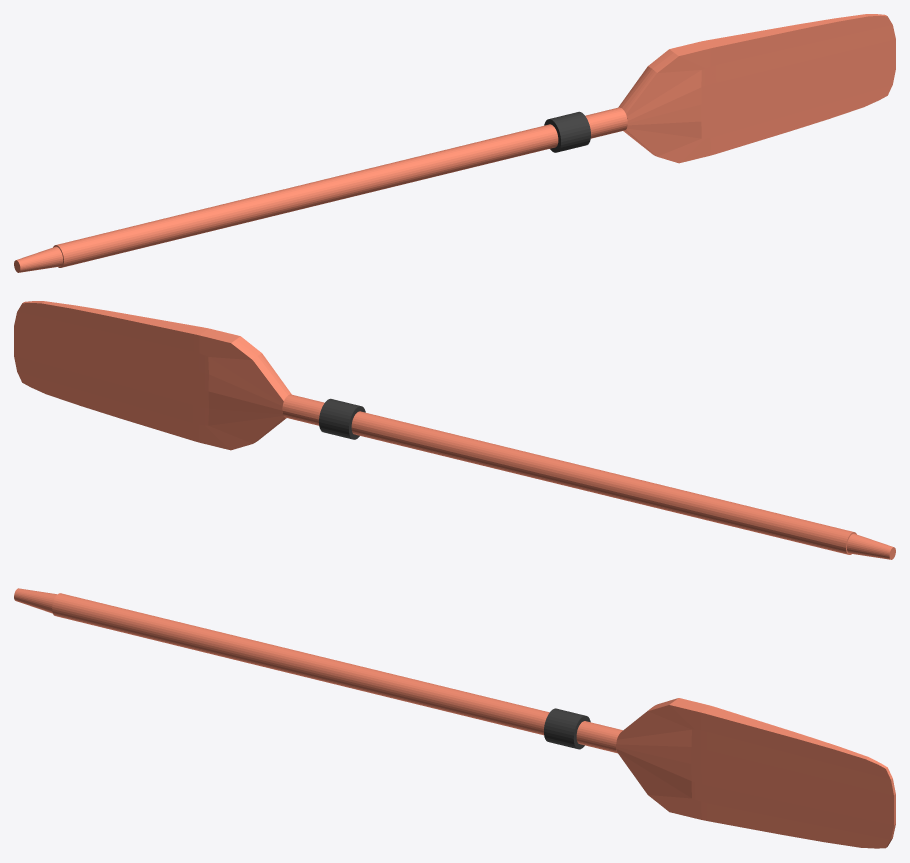
Rendered from Rowing.fbx.
3 views of the same model, one above another, from view 1: azimuth 30°, elevation 25°; view 2: azimuth 150°, elevation 25°; view 3: azimuth 330°, elevation 25° (orthographic).
Visible parts, largest first — view 1: Cylinder; view 2: Cylinder; view 3: Cylinder.
Part boxes in pixels (bbox=[...]): Cylinder: bbox=[14, 14, 895, 272]; Cylinder: bbox=[14, 301, 895, 559]; Cylinder: bbox=[14, 588, 895, 848].
Size of the model in its own units: 1115 by 130 by 38.04.
